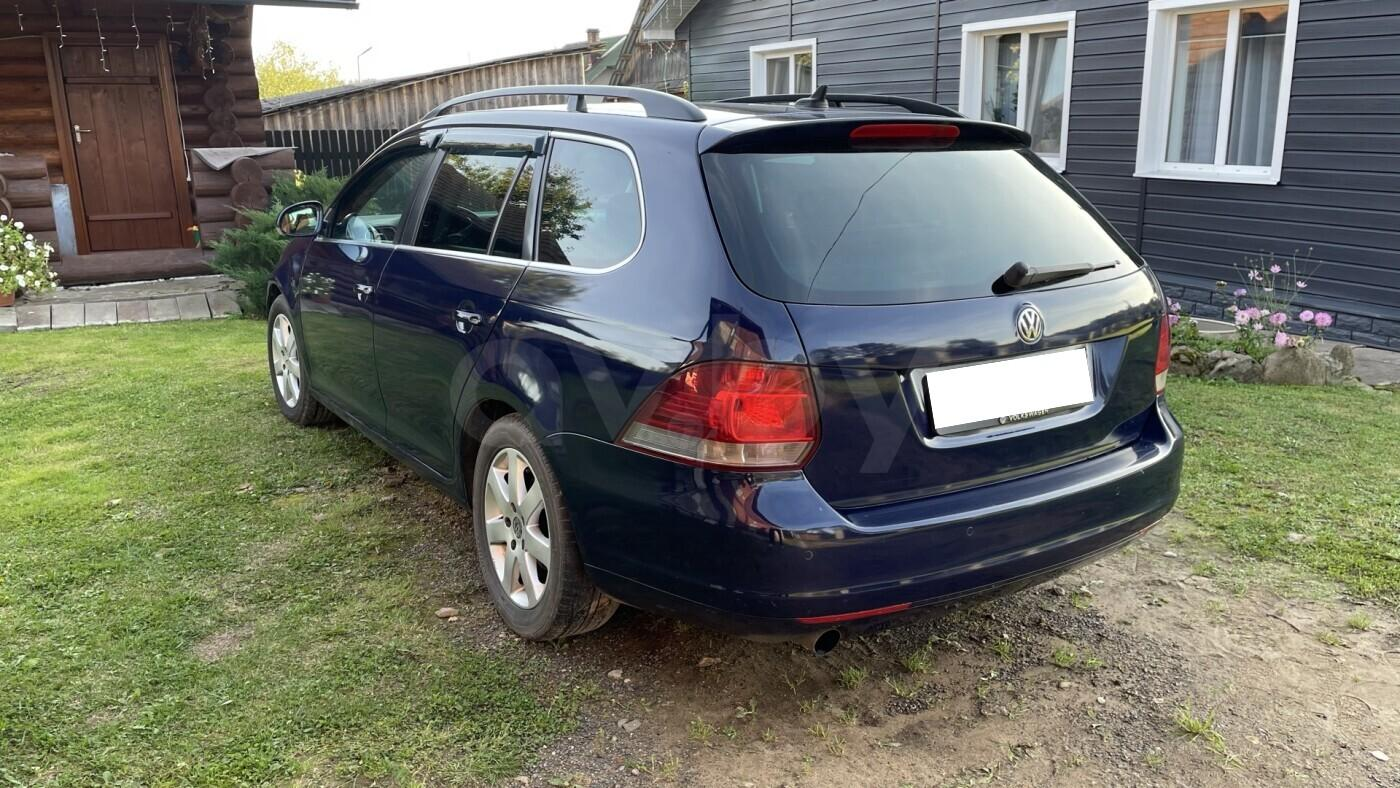Golf_2008-2013: (260, 82, 1191, 647)
